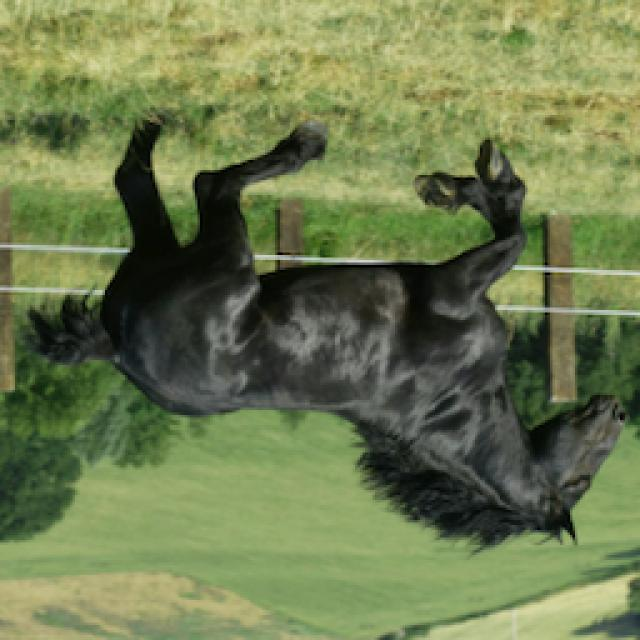Horse: (22, 110, 632, 560)
